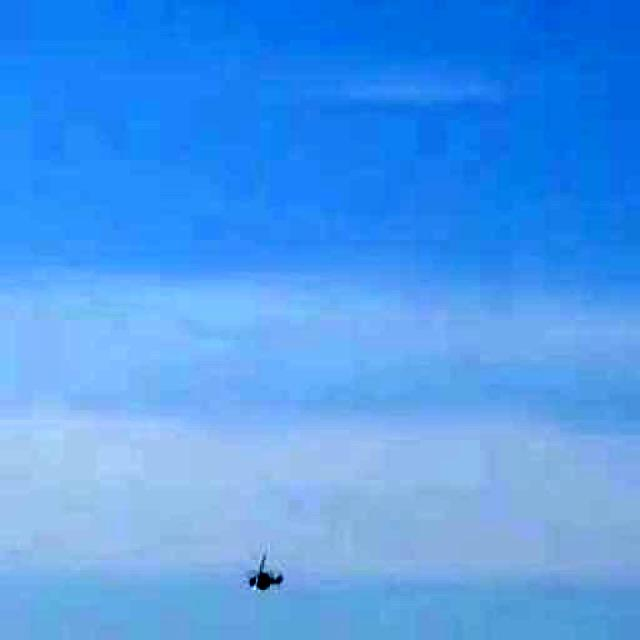drone: (222, 535, 305, 618)
